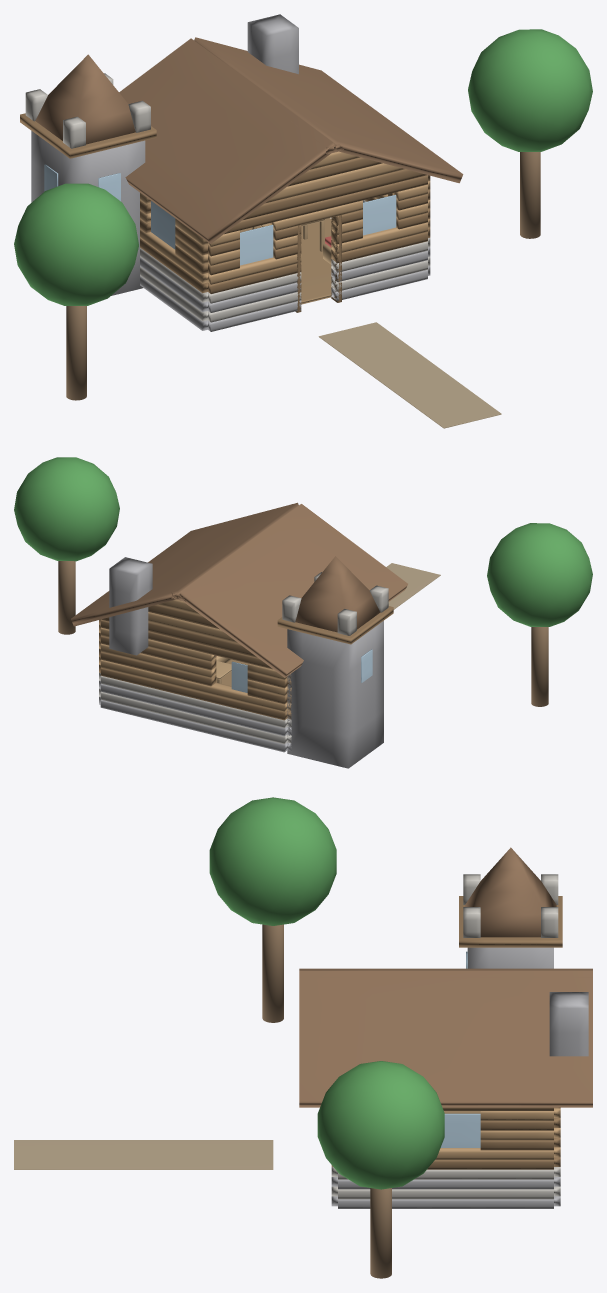
File: cabana_4_torre_de_vigia.glb
3 views of the same model, one above another, from view 1: azimuth 30°, elevation 25°; view 2: azimuth 150°, elevation 25°; view 3: azimuth 270°, elevation 25° (orthographic). The views are drawn at different scales.
Parts seen in each view (by area): view 1: TechoIzq, Muro (×20), Arbol2_Copa, Arbol1_Copa, TechoDer, Camino, TorreTecho, TorreMuro, Fronton (×3), Cristal (×3), Chimenea, Suelo (+5 smaller); view 2: TechoIzq, Muro (×11), TorreMuro, Arbol1_Copa, Arbol2_Copa, TechoDer, TorreTecho, Chimenea, Fronton (×3), Arbol2_Tronco, Arbol1_Tronco, TorreSuelo (+3 smaller); view 3: TechoDer, Muro (×10), Arbol2_Copa, Arbol1_Copa, Camino, TorreTecho, Chimenea, Arbol2_Tronco, Arbol1_Tronco, TorreMuro, TorreSuelo, Cristal (+1 smaller).
Part boxes in pixels (<box>): TechoIzq: <box>119,38,336,243</box>; Muro (×20): <box>140,175,427,331</box>; Arbol2_Copa: <box>14,183,138,305</box>; Arbol1_Copa: <box>468,29,592,151</box>; TechoDer: <box>194,37,463,183</box>; Camino: <box>318,322,501,428</box>; TorreTecho: <box>35,54,135,144</box>; TorreMuro: <box>31,131,145,295</box>; Fronton (×3): <box>243,157,427,219</box>; Cristal (×3): <box>151,194,396,265</box>; Chimenea: <box>247,14,298,74</box>; Suelo: <box>240,218,331,304</box>; TechoIzq: <box>178,504,407,677</box>; Muro (×11): <box>100,619,287,752</box>; TorreMuro: <box>287,621,383,768</box>; Arbol1_Copa: <box>14,457,119,561</box>; Arbol2_Copa: <box>487,523,592,626</box>; TechoDer: <box>71,502,298,626</box>; TorreTecho: <box>295,556,380,632</box>; Chimenea: <box>109,557,152,655</box>; Fronton (×3): <box>101,604,257,657</box>; Arbol2_Tronco: <box>531,627,548,706</box>; Arbol1_Tronco: <box>58,561,75,634</box>; TorreSuelo: <box>277,606,393,644</box>; TechoDer: <box>299,971,592,1107</box>; Muro (×10): <box>338,1111,553,1208</box>; Arbol2_Copa: <box>209,797,336,925</box>; Arbol1_Copa: <box>317,1061,444,1189</box>; Camino: <box>14,1140,273,1169</box>; TorreTecho: <box>465,847,556,937</box>; Chimenea: <box>549,992,588,1056</box>; Arbol2_Tronco: <box>262,924,283,1022</box>; Arbol1_Tronco: <box>370,1188,391,1278</box>; TorreMuro: <box>467,947,553,968</box>; TorreSuelo: <box>459,896,562,947</box>; Cristal: <box>440,1113,480,1147</box>.
Size of what is drawn, in the model's own units: 1.1 by 0.39 by 0.871.
